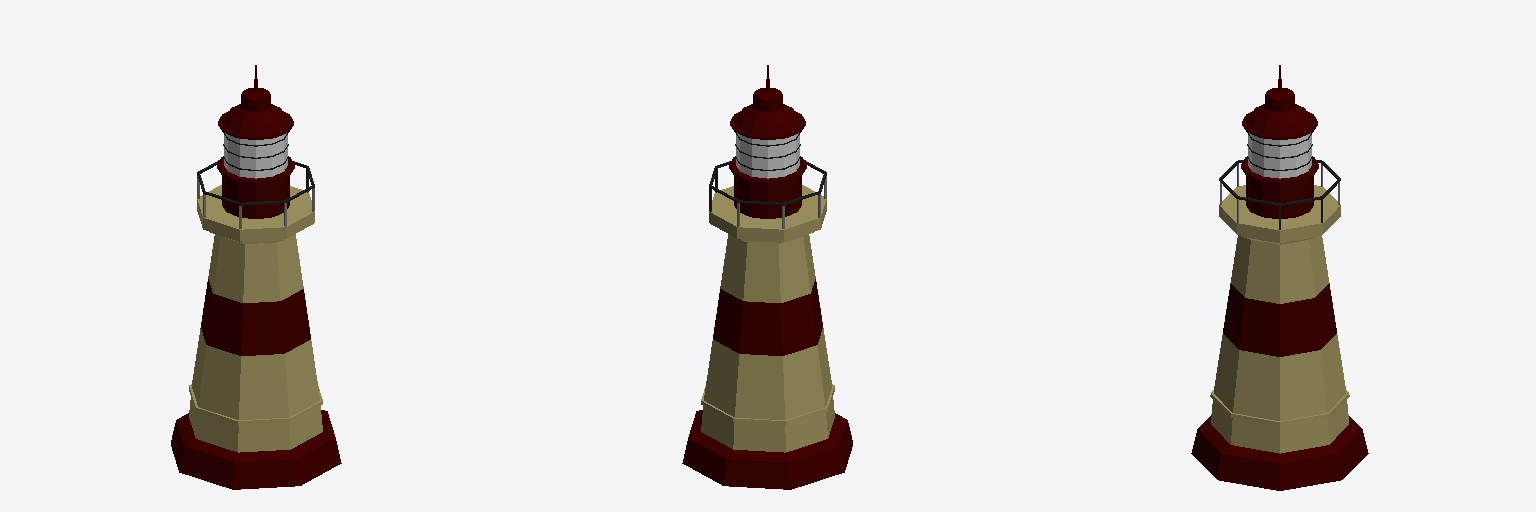
The model's file is lighthouse.obj.
The picture shows the model from 3 angles: view 1: azimuth 30°, elevation 25°; view 2: azimuth 150°, elevation 25°; view 3: azimuth 270°, elevation 25°; orthographic projection.
Bounding box in the file's own units: 8.62 × 21.24 × 8.62.